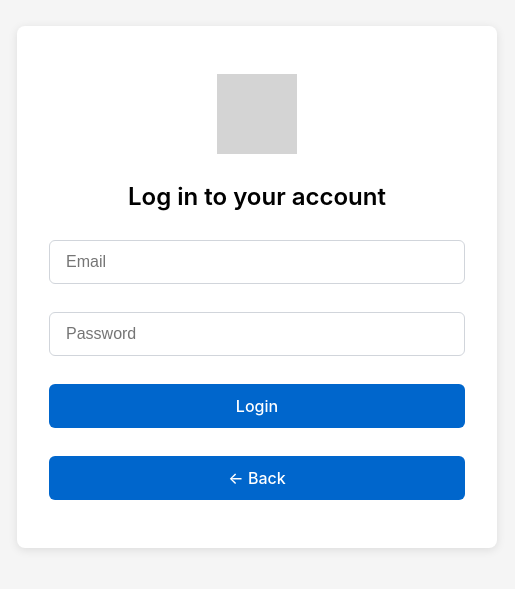
it: UI: LoginPage & LoginForm › wrong password shows specific error
Type "user@example.com" into the field with placeholder "Email" at (257, 262), box [49, 240, 465, 284]
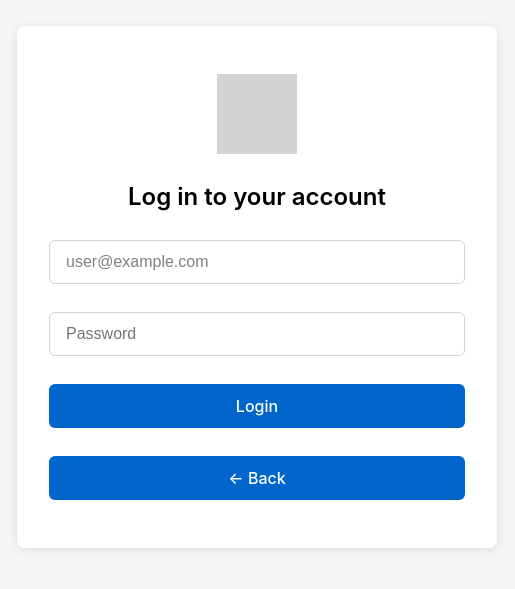
Type "wrong" into the password field with placeholder "Password" at (257, 334), box [49, 312, 465, 356]
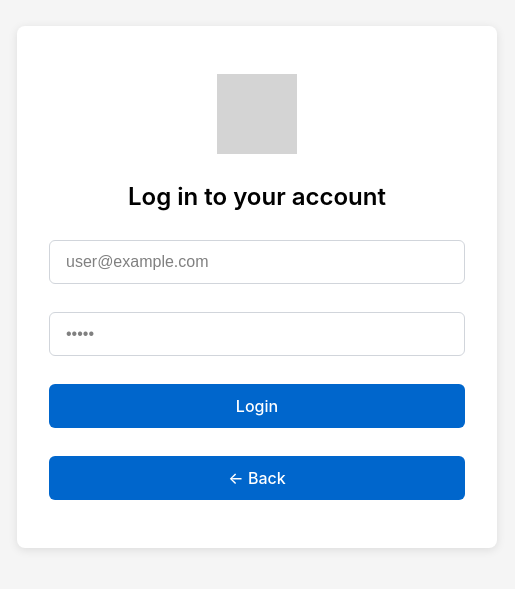
Click the button "Login" at (257, 406), box [49, 384, 465, 428]
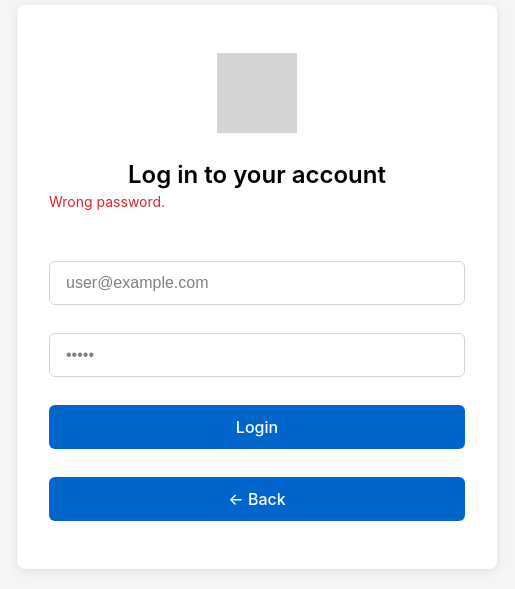
Check: the text "Wrong password." is shown, box [49, 193, 165, 210]
